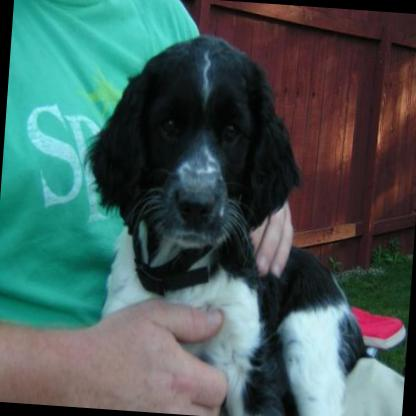English_springer: (67, 21, 385, 416)
